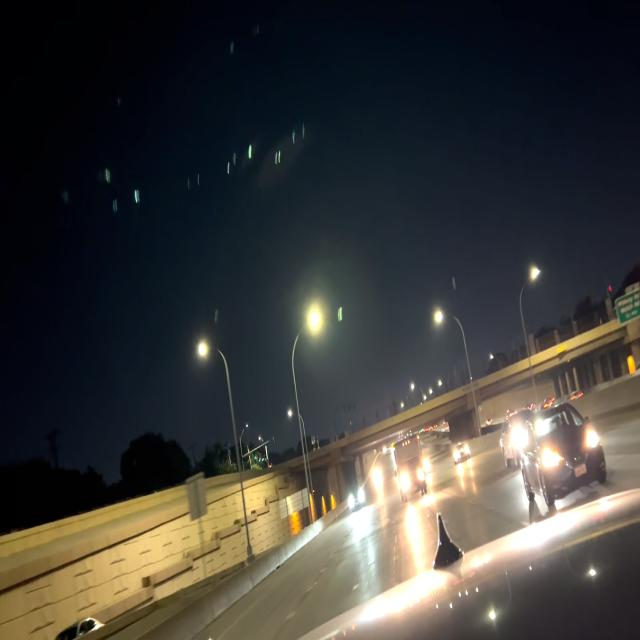back-of-sign: (184, 469, 208, 522), (277, 488, 310, 519)
